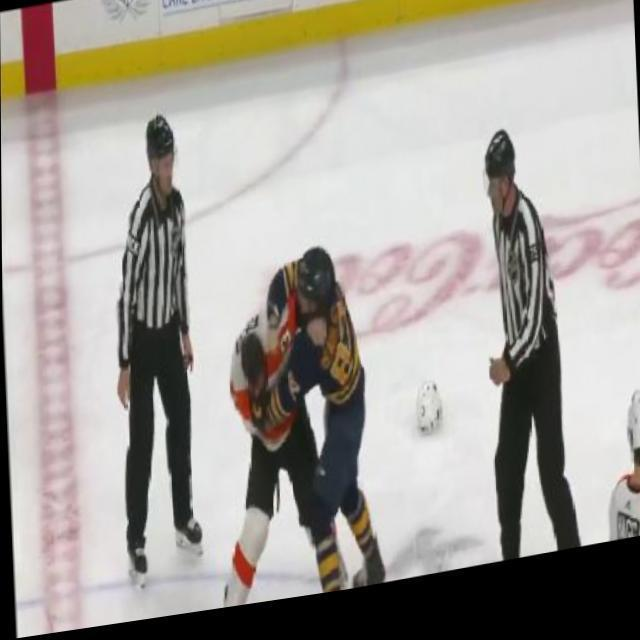fight: (224, 243, 386, 614)
